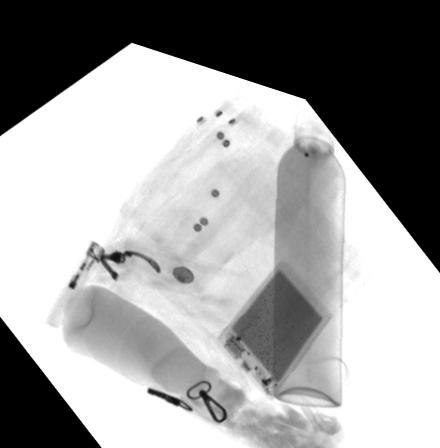Lighter: (42, 233, 111, 330)
Powerbank: (214, 241, 330, 381)
Sprayer: (269, 91, 345, 386)
